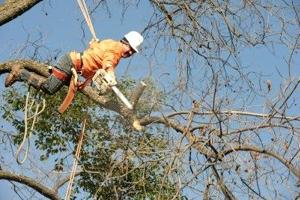person: (4, 31, 145, 94)
